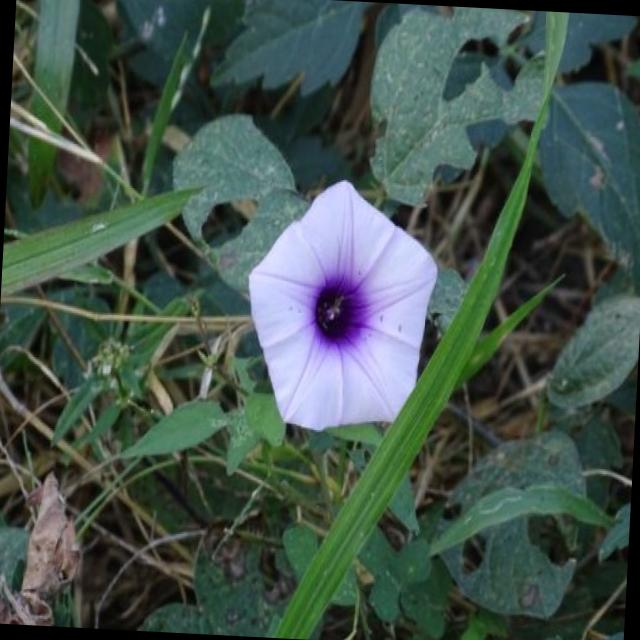ipomoea: (237, 172, 446, 443)
